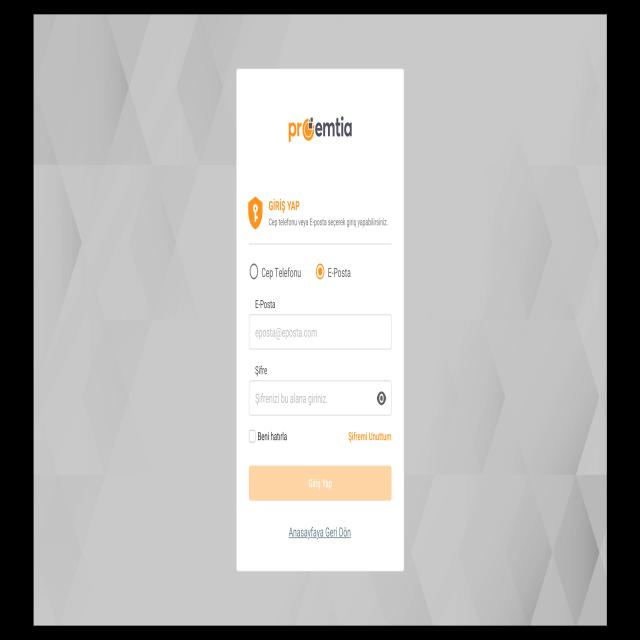QLabel: (267, 216, 390, 230), (287, 524, 352, 542), (252, 390, 329, 405), (347, 428, 392, 445), (268, 198, 301, 213), (306, 477, 333, 490), (254, 298, 276, 310), (254, 365, 268, 377)
VBtn: (248, 464, 392, 502)
VCard: (236, 68, 405, 573)
VCheckbox: (246, 426, 292, 449)
VContainer: (31, 12, 608, 628)
VImg: (284, 107, 356, 148), (246, 196, 264, 232)
VRadio: (247, 260, 303, 286), (314, 261, 355, 285)
VTextField: (248, 314, 392, 351), (248, 380, 392, 416)
